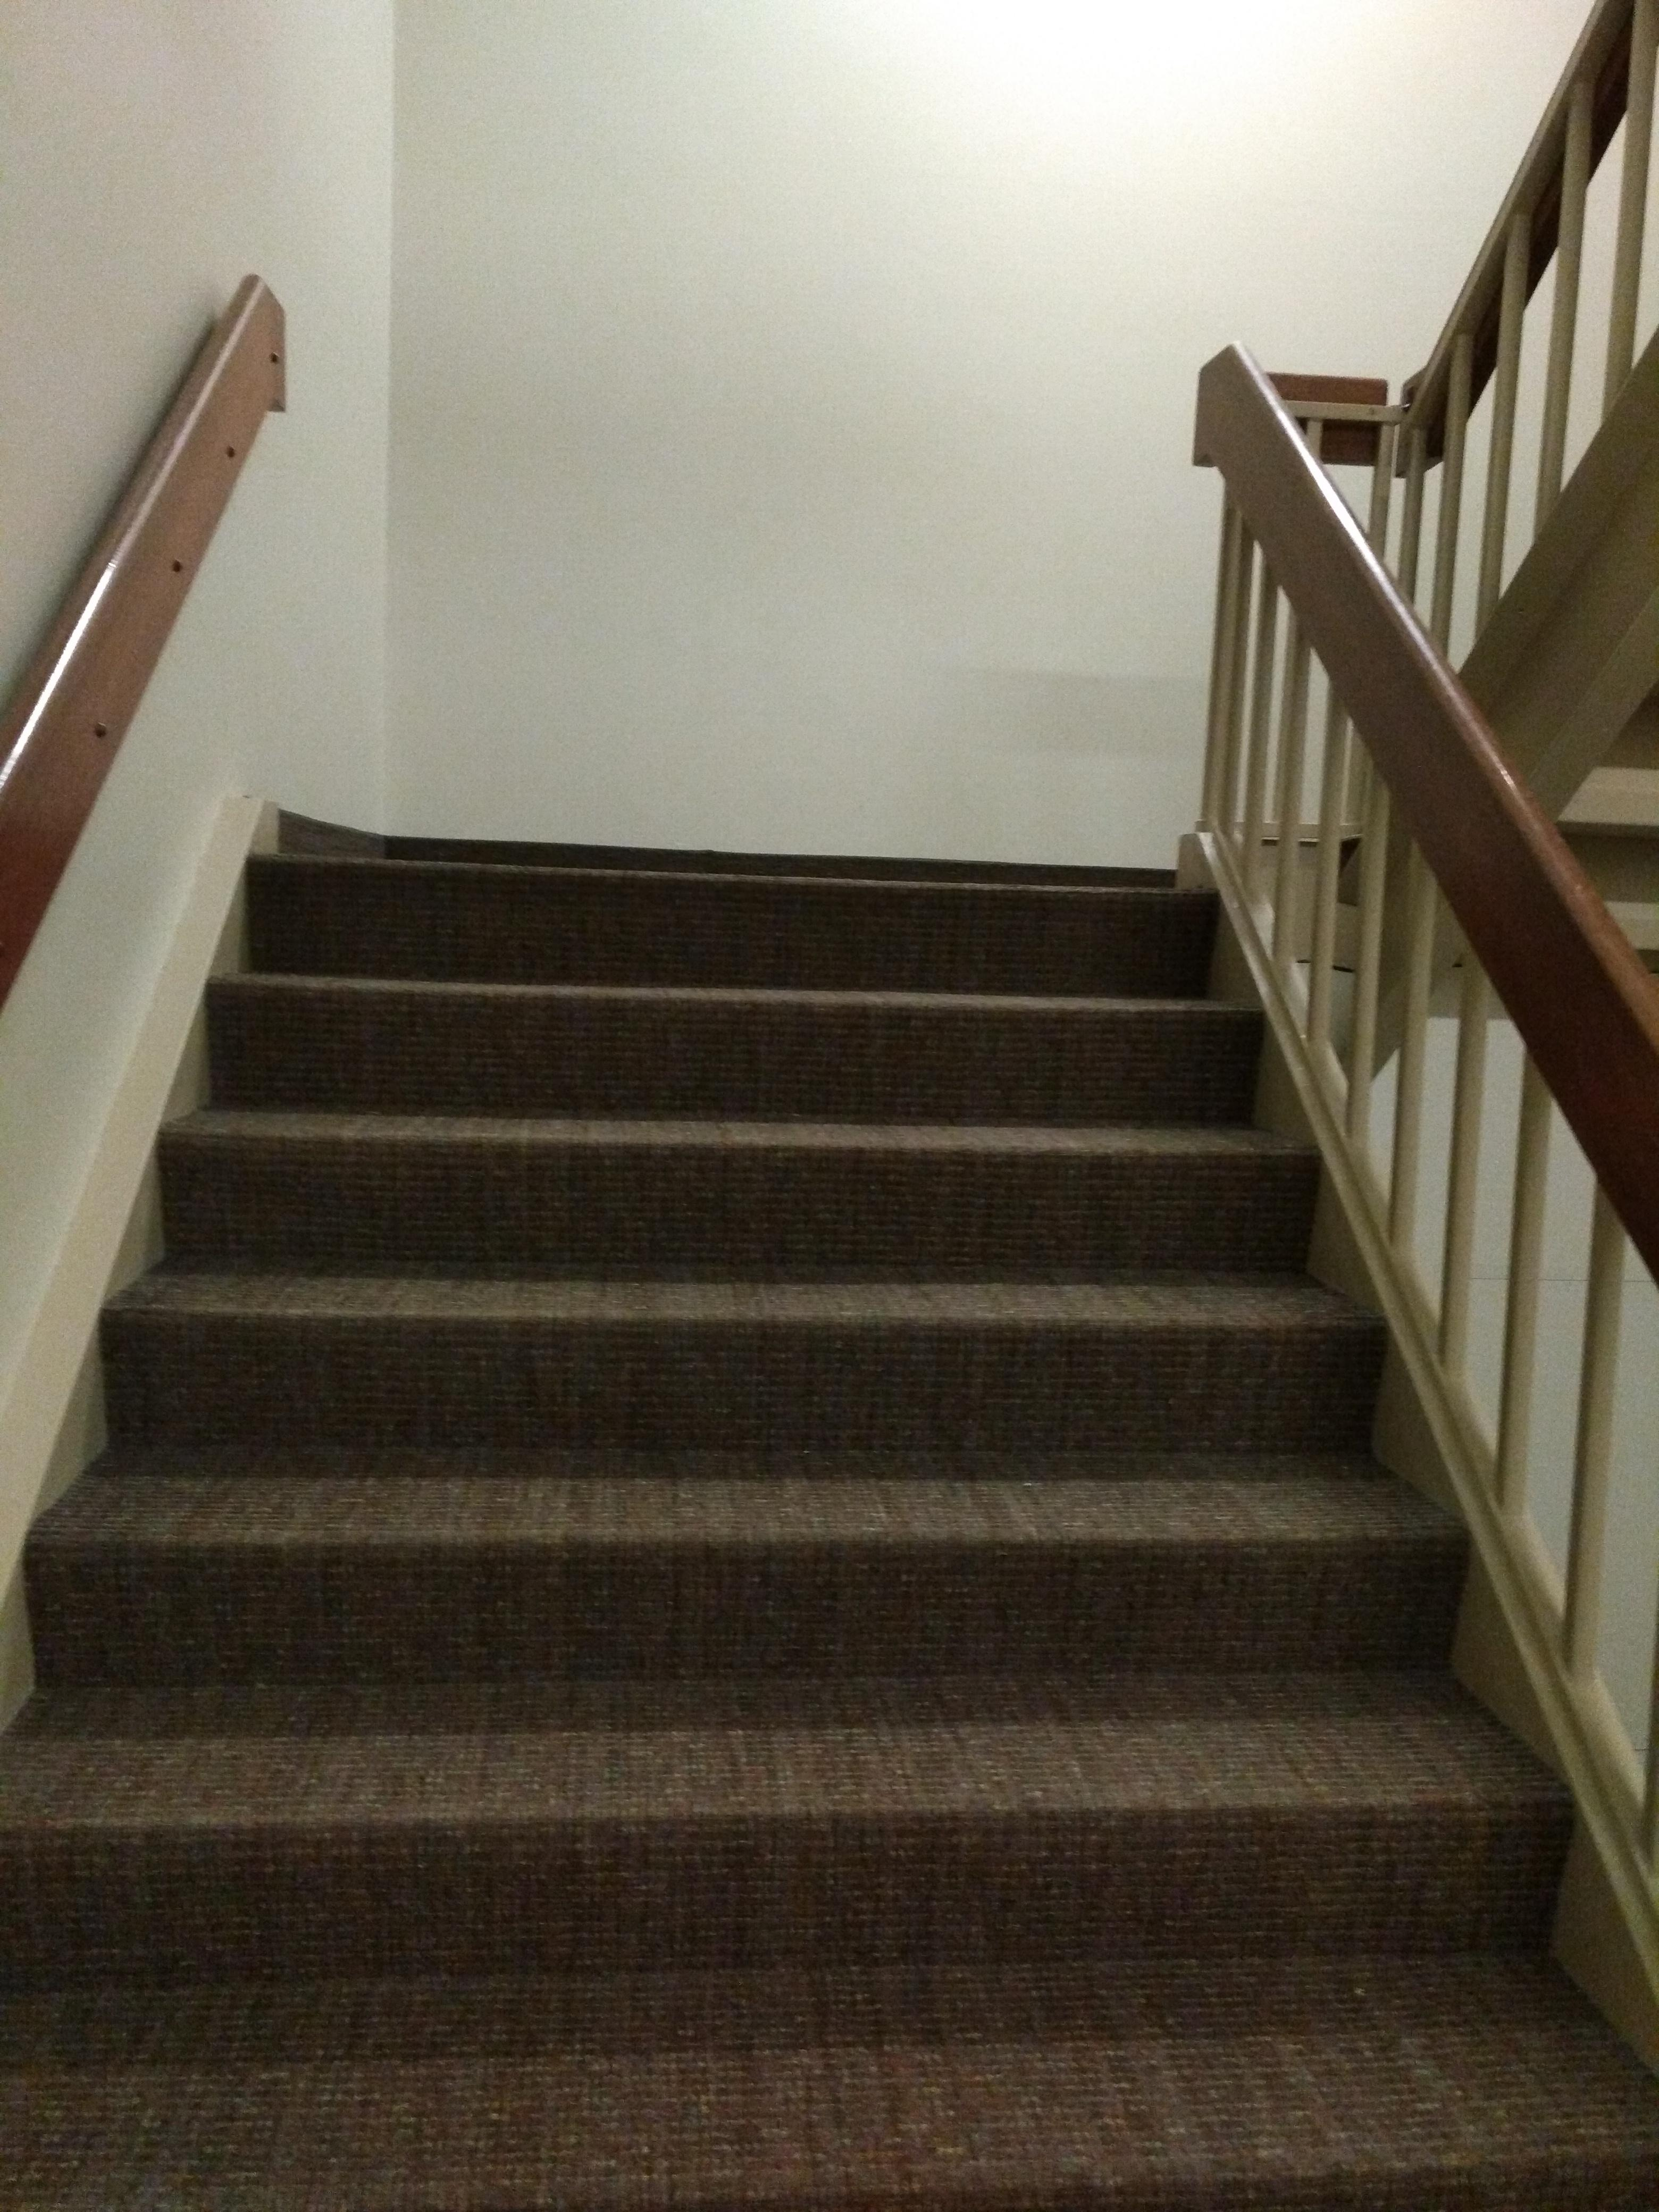stairs_up: (17, 829, 1610, 2067)
